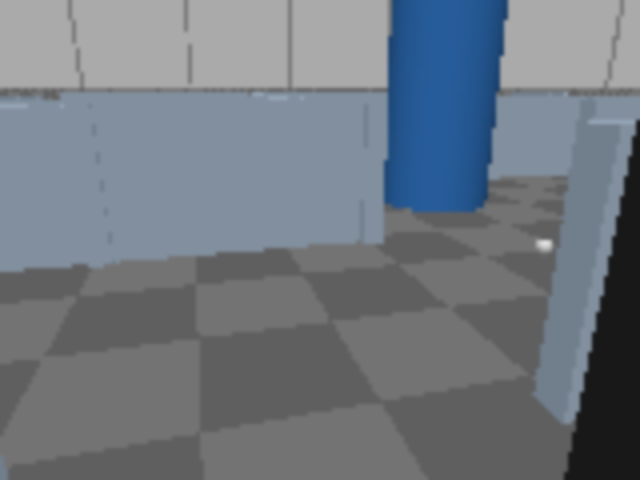puck: (530, 236, 558, 258)
